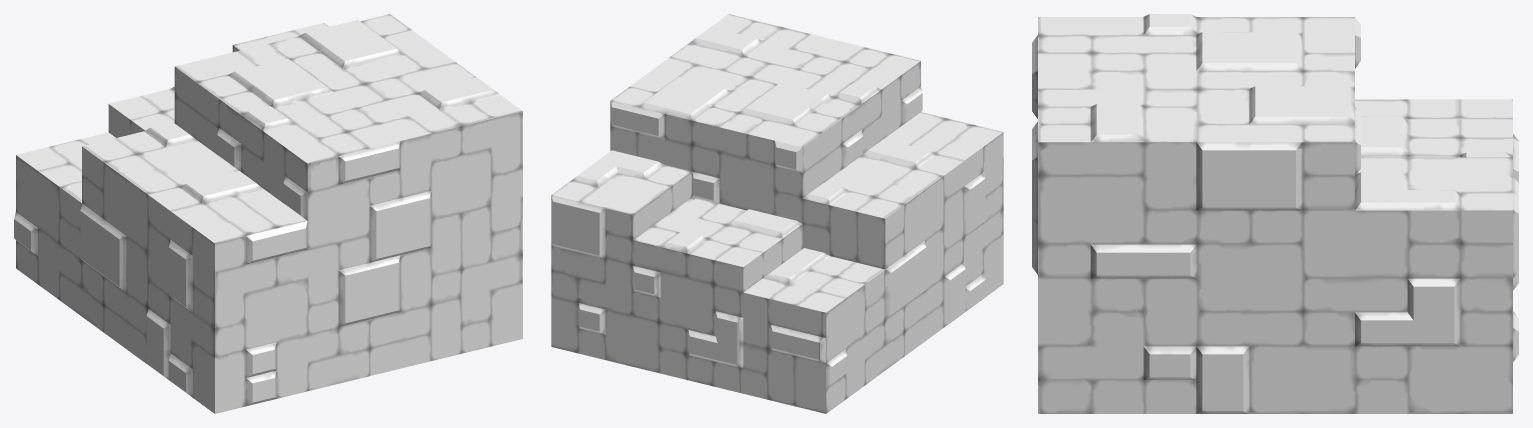
Rendered from SM_stone_platform_large.fbx.
3 renders of one model, left to right at view 1: azimuth 30°, elevation 25°; view 2: azimuth 150°, elevation 25°; view 3: azimuth 270°, elevation 25°, orthographic. The views are drawn at different scales.
Visible parts, largest first — view 1: Cube__7_.001; view 2: Cube__7_.001; view 3: Cube__7_.001.
Part boxes in pixels (box(x1,y1,x2,y2)): Cube__7_.001: box(14, 14, 522, 413); Cube__7_.001: box(551, 14, 1003, 413); Cube__7_.001: box(1032, 14, 1518, 413).
Bounding box in the file's own units: 1461 × 1630 × 1024.
